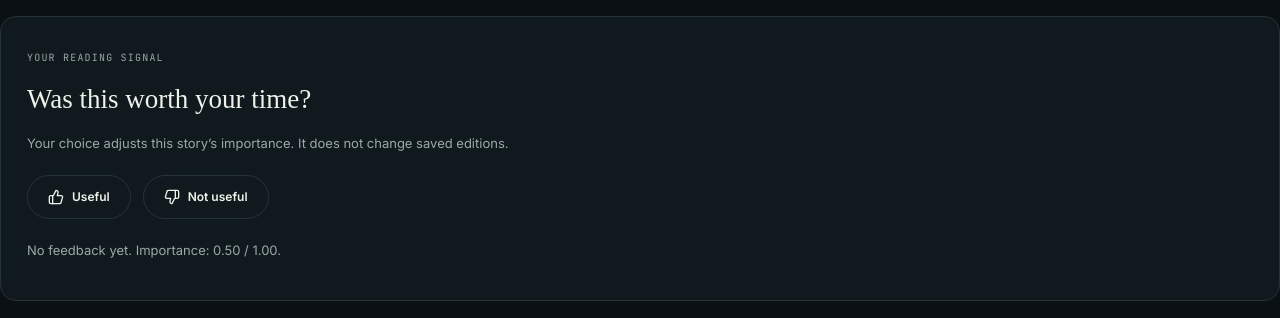
Test: sets, replaces and clears an absolute choice
What coordinates should you click on to do the following:
click the button "Useful"
I would click on:
 (79, 197)
Its box is [27,175,131,219].
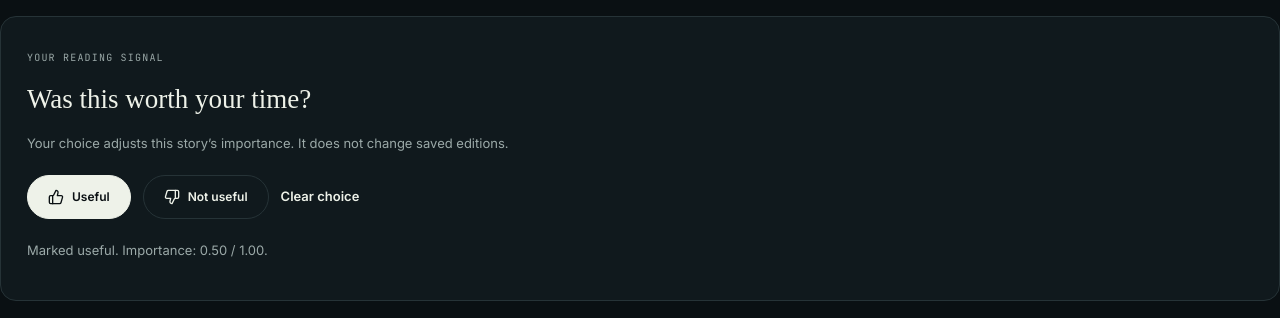
Now the button "Useful" is pressed, box [27,175,131,219]
What coordinates should you click on to do the following:
click the button "Not useful"
I would click on:
 (206, 197)
Its box is [143,175,269,219].
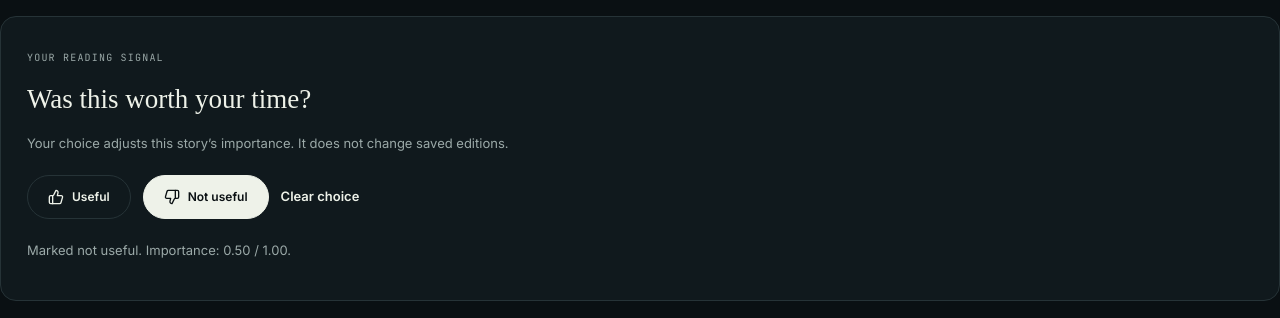
Now the button "Useful" is not pressed, box [27,175,131,219]
What coordinates should you click on to do the following:
click the button "Clear choice"
I would click on:
 (320, 197)
Its box is [280,187,359,207].
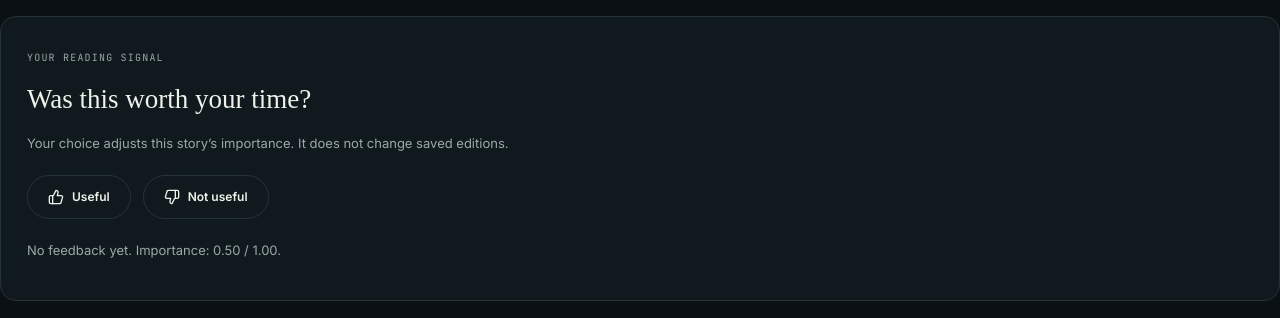
Now the button "Clear choice" is gone
